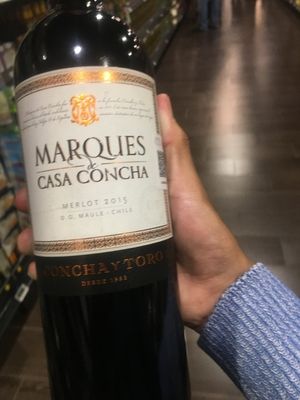marques de casa concha merlot: (12, 15, 195, 400)
